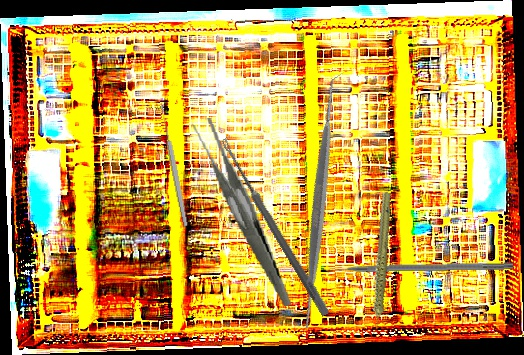Dressing Forceps: (190, 110, 292, 315)
Handpiece: (338, 190, 421, 338)
Hook Surgical: (322, 260, 514, 273)
Spatula Surgical: (187, 71, 453, 336)
Surgical Spoon: (217, 137, 332, 317), (158, 103, 190, 228)
